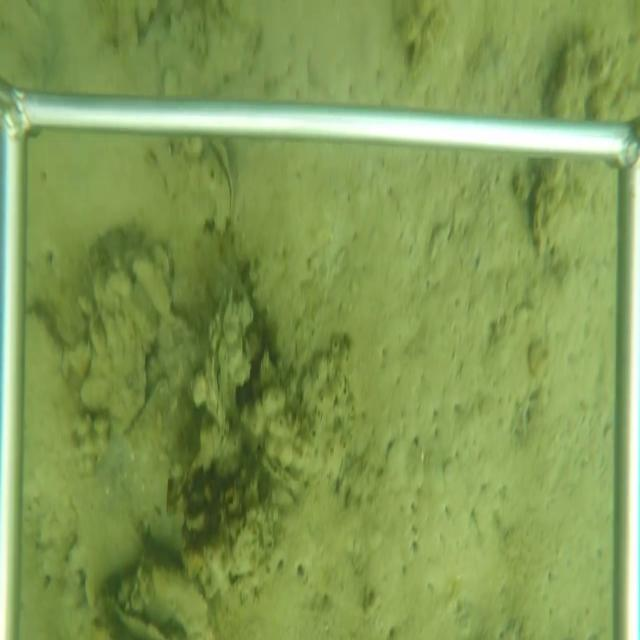Oyster-Closed: (201, 294, 252, 436)
Oyster-Indeterminate: (79, 282, 147, 438), (115, 562, 213, 639), (529, 186, 546, 254)
Oyster-Open: (196, 139, 236, 234)
